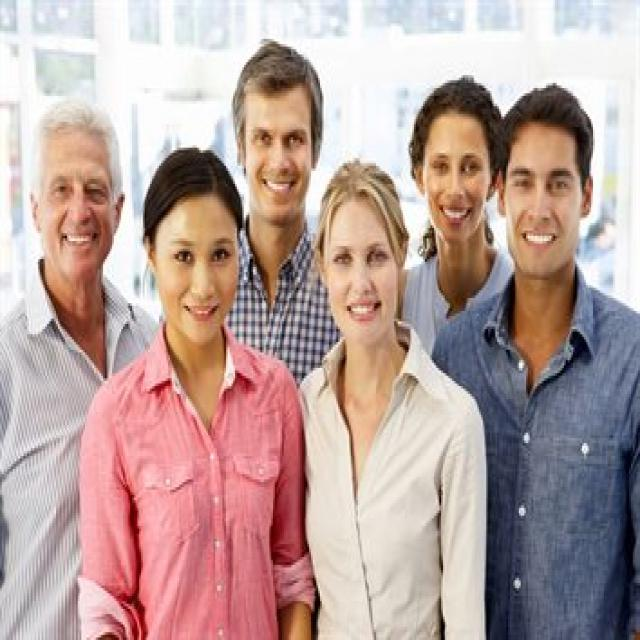adult: (81, 149, 312, 640), (434, 90, 640, 640), (302, 156, 486, 640), (0, 97, 155, 640), (217, 37, 339, 361), (398, 74, 511, 327)
